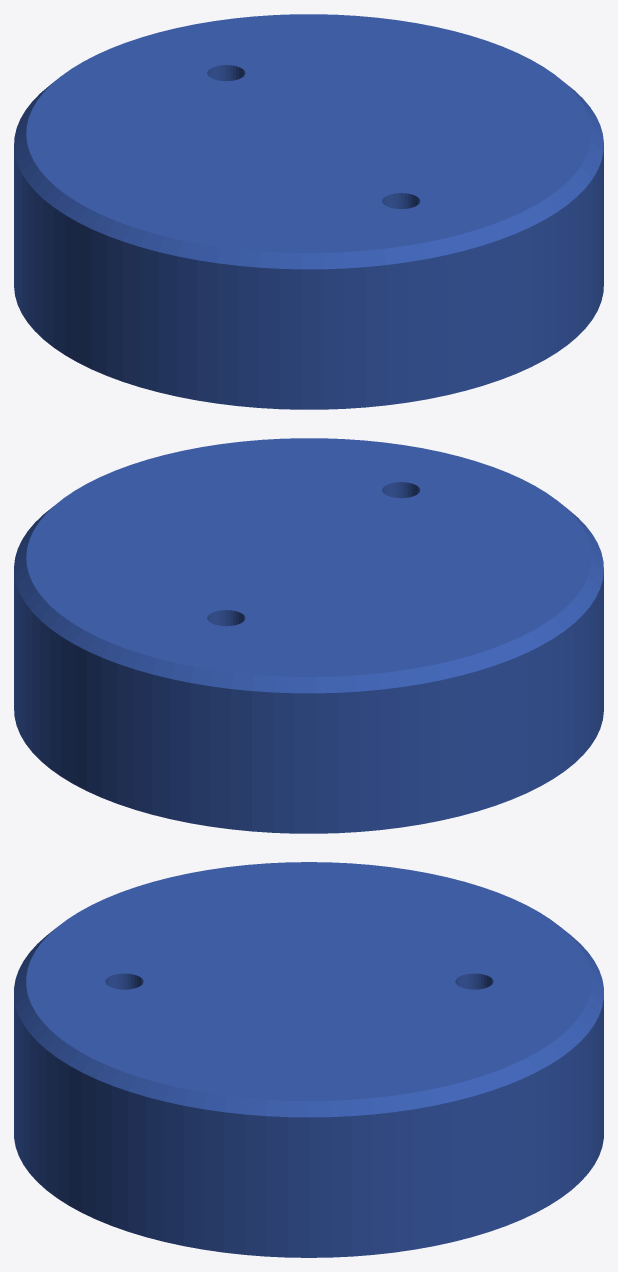
The model's file is lidar-top.dae.
The picture shows the model from 3 angles, top to bottom: view 1: azimuth 30°, elevation 25°; view 2: azimuth 150°, elevation 25°; view 3: azimuth 270°, elevation 25°; orthographic projection.
Visible parts, largest first — view 1: ID2; view 2: ID2; view 3: ID2.
Part boxes in pixels (left/top/right/bottom): ID2: left=14, top=14, right=603, bottom=409; ID2: left=14, top=438, right=603, bottom=833; ID2: left=14, top=862, right=603, bottom=1257.
Size of the model in its own units: 0.061 by 0.0609 by 0.0173.
